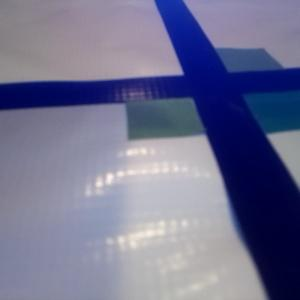bottom_left: (126, 77, 243, 139)
bottom_right: (205, 73, 300, 134)
top_right: (185, 47, 283, 88)
